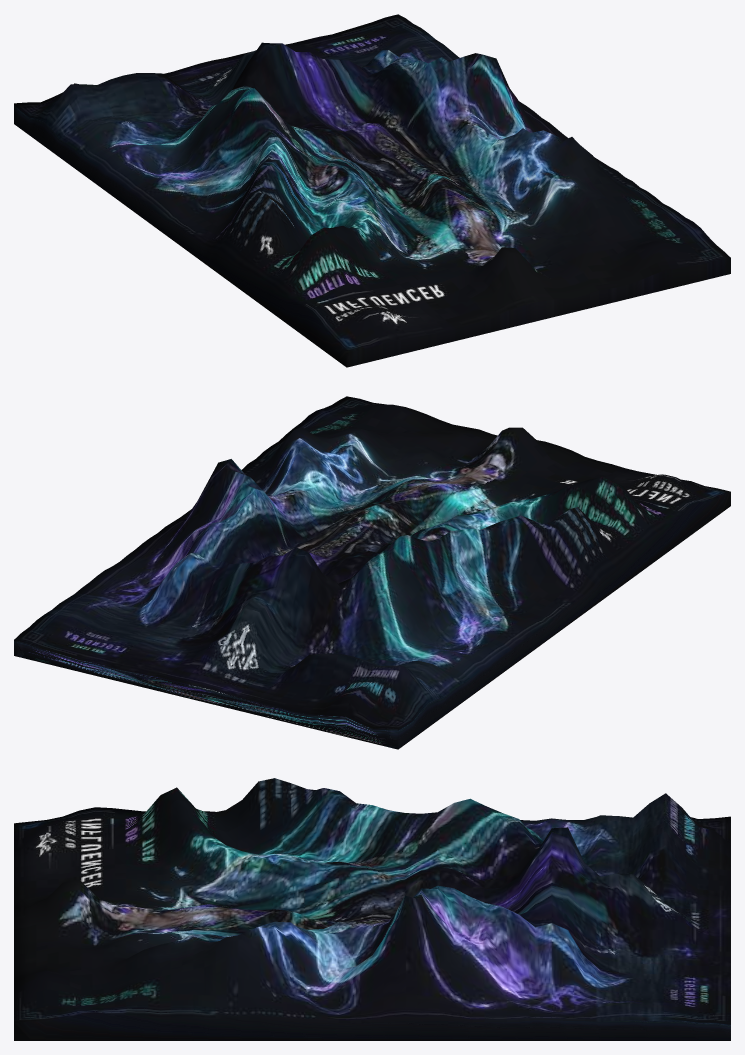
Rendered from CAREER_10_Outfit_06_Immortal.glb.
3 renders of one model, top to bottom at view 1: azimuth 30°, elevation 25°; view 2: azimuth 150°, elevation 25°; view 3: azimuth 270°, elevation 25°, orthographic. The views are drawn at different scales.
Visible parts, largest first — view 1: CAREER_10_Outfit_06_Immortal; view 2: CAREER_10_Outfit_06_Immortal; view 3: CAREER_10_Outfit_06_Immortal.
Part boxes in pixels (x1,y1,x2,y2): CAREER_10_Outfit_06_Immortal: [14, 14, 730, 367]; CAREER_10_Outfit_06_Immortal: [14, 396, 730, 749]; CAREER_10_Outfit_06_Immortal: [14, 778, 730, 1040].
Size of the model in its own units: 2 by 0.51 by 3.
Materials: 1 (1 with a texture image).
